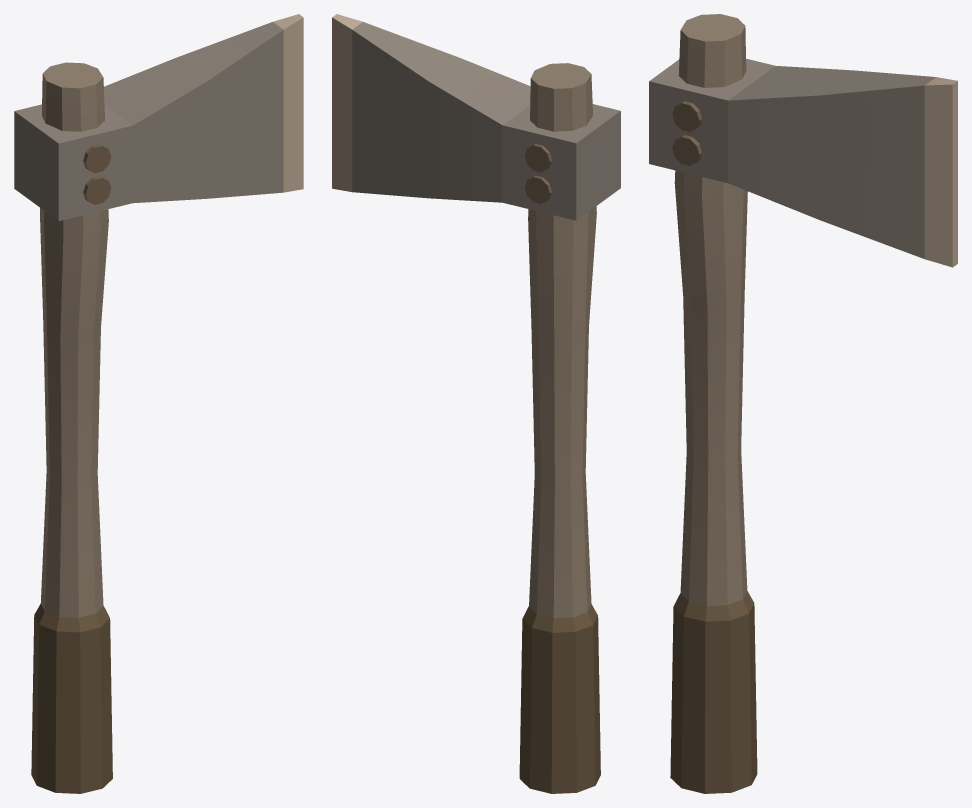
File: wood_ax.fbx
3 views of the same model, side by side, from view 1: azimuth 30°, elevation 25°; view 2: azimuth 150°, elevation 25°; view 3: azimuth 330°, elevation 25° (orthographic). The views are drawn at different scales.
Parts seen in each view (by area): view 1: pCylinder1, pCube1, pCylinder2, pCylinder3; view 2: pCylinder1, pCube1, pCylinder3, pCylinder2; view 3: pCylinder1, pCube1, pCylinder2, pCylinder3.
Boxes of the visible parts, x1,y1,x2,y2 form: pCylinder1: (31, 62, 112, 793); pCube1: (14, 14, 303, 220); pCylinder2: (83, 144, 111, 173); pCylinder3: (83, 176, 111, 204); pCylinder1: (519, 63, 600, 793); pCube1: (332, 14, 620, 220); pCylinder3: (524, 175, 551, 203); pCylinder2: (524, 144, 551, 172); pCylinder1: (670, 14, 757, 793); pCube1: (649, 58, 957, 267); pCylinder2: (672, 101, 701, 131); pCylinder3: (672, 135, 701, 165).
Bounding box in the file's own units: 3.57 × 9.1 × 1.15.
